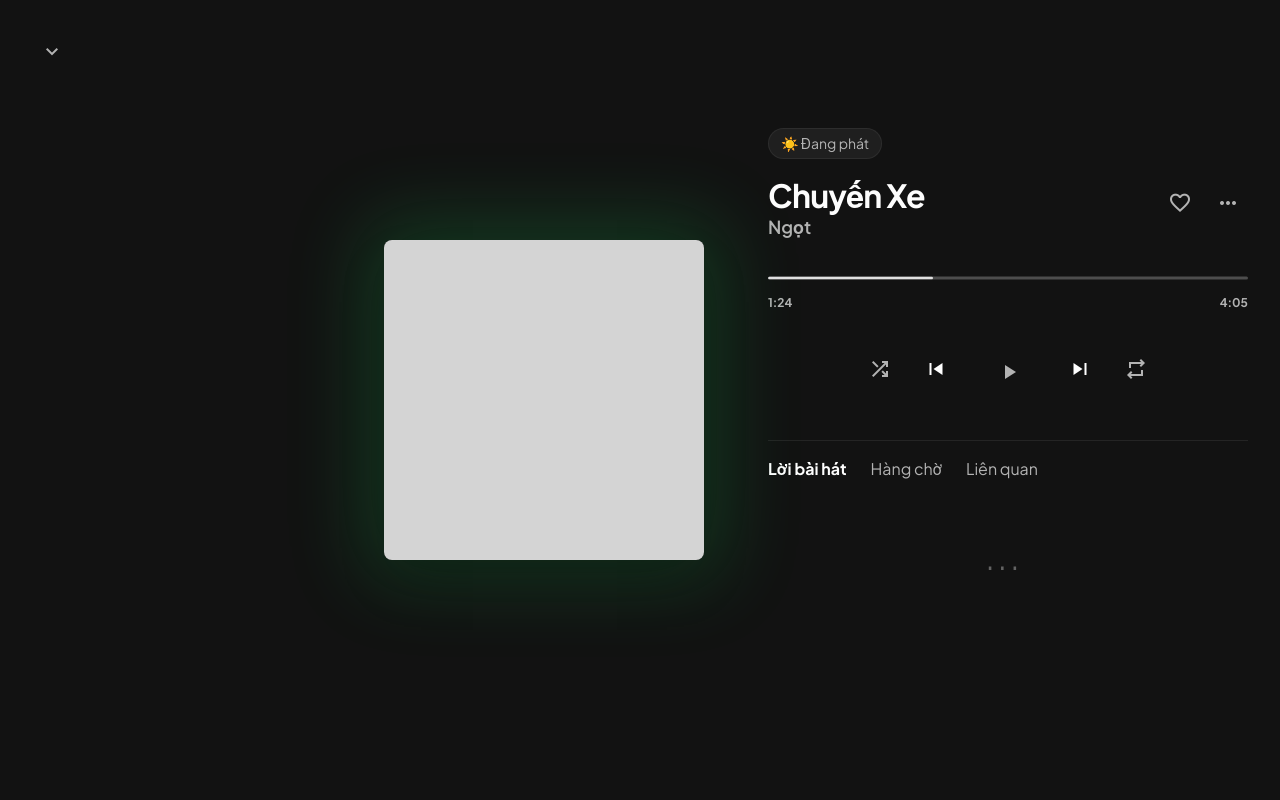
NowPlayingOverlay — related tab › filters out the current song from related results
What coordinates should you click on to do the following:
click the tab with test id "tab-related"
I would click on:
 (1002, 471)
Its box is [966, 457, 1038, 485].
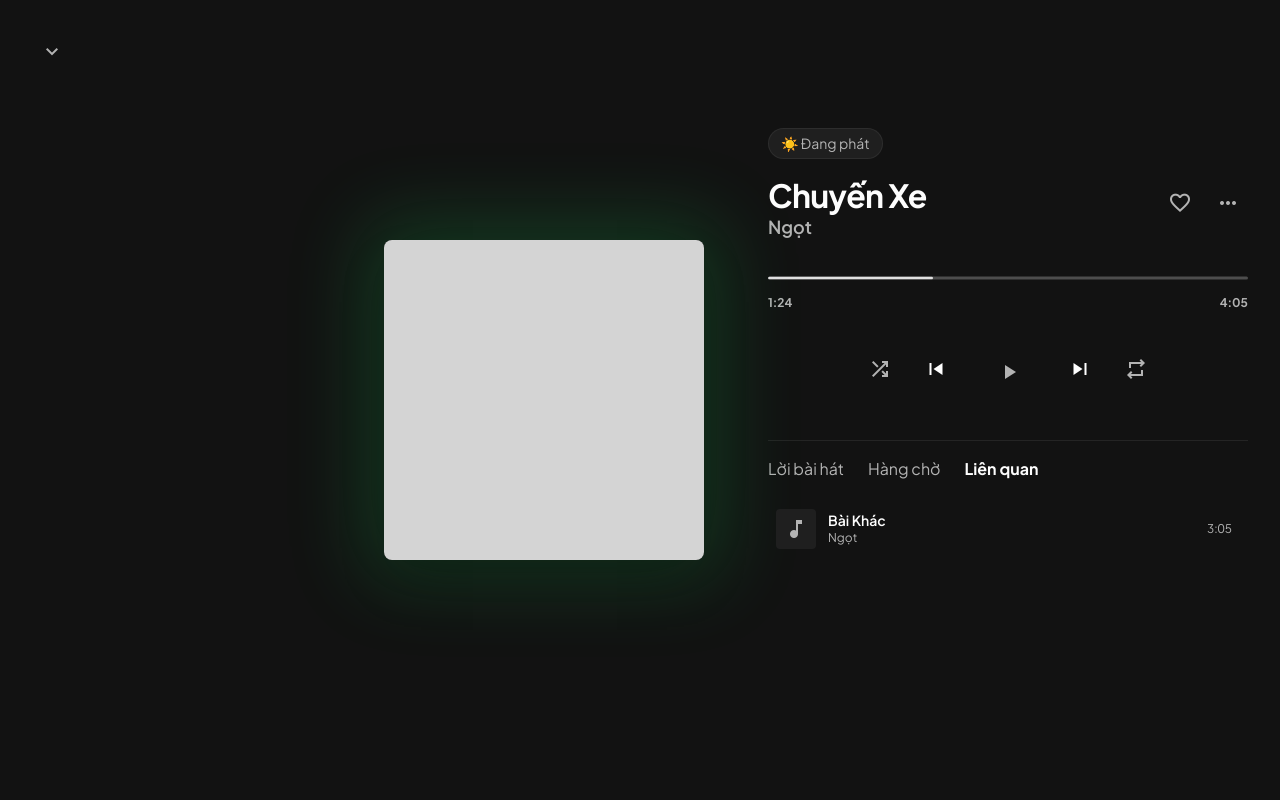
Now the button with test id "related-item-r-2" is shown, box [768, 501, 1240, 557]
